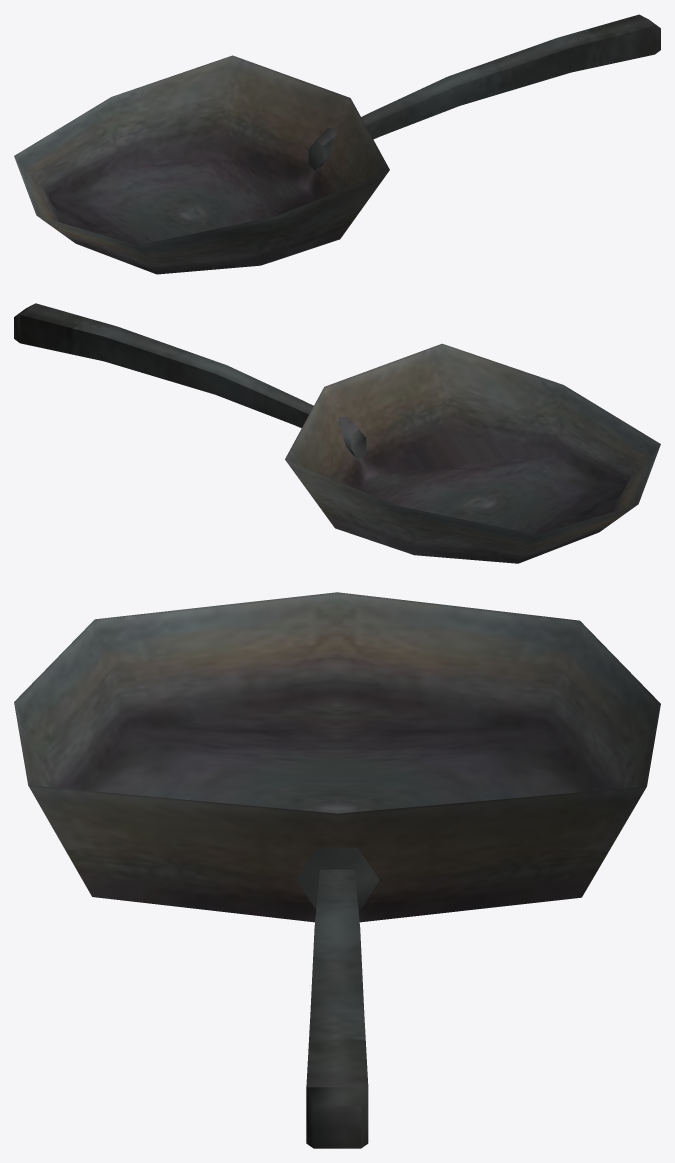
File: pan.fbx
3 renders of one model, top to bottom at view 1: azimuth 30°, elevation 25°; view 2: azimuth 150°, elevation 25°; view 3: azimuth 270°, elevation 25°, orthographic. The views are drawn at different scales.
Visible parts, largest first — view 1: pan_h, panH_handle, panH_handlestem; view 2: pan_h, panH_handle, panH_handlestem; view 3: pan_h, panH_handle, panH_handlestem.
Boxes of the visible parts, x1,y1,x2,y2 form: pan_h: [14, 55, 389, 274]; panH_handle: [361, 14, 660, 139]; panH_handlestem: [308, 128, 336, 170]; pan_h: [285, 343, 660, 563]; panH_handle: [14, 303, 313, 428]; panH_handlestem: [338, 417, 366, 459]; pan_h: [14, 592, 660, 922]; panH_handle: [306, 869, 368, 1148]; panH_handlestem: [296, 847, 379, 911].
Bounding box in the file's own units: 160 × 20.85 × 73.83.
1 material, 1 textured.
